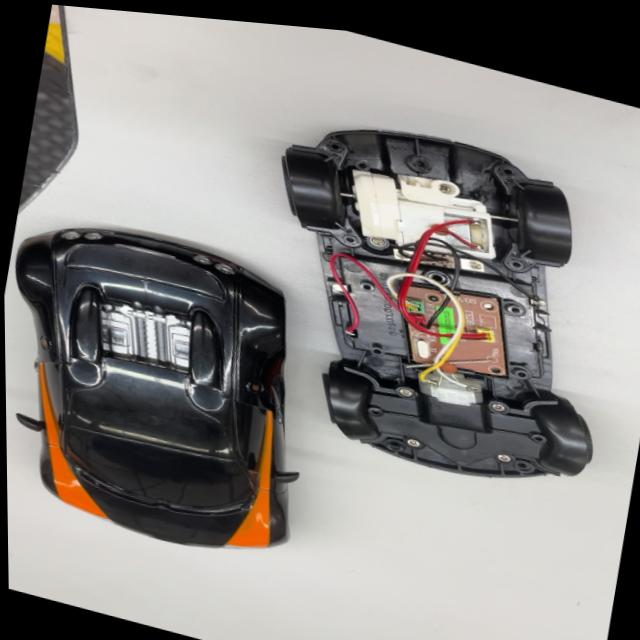Chassis: (231, 92, 640, 515)
motor_cover: (316, 350, 601, 506)
vehicle_body: (3, 199, 347, 590)
